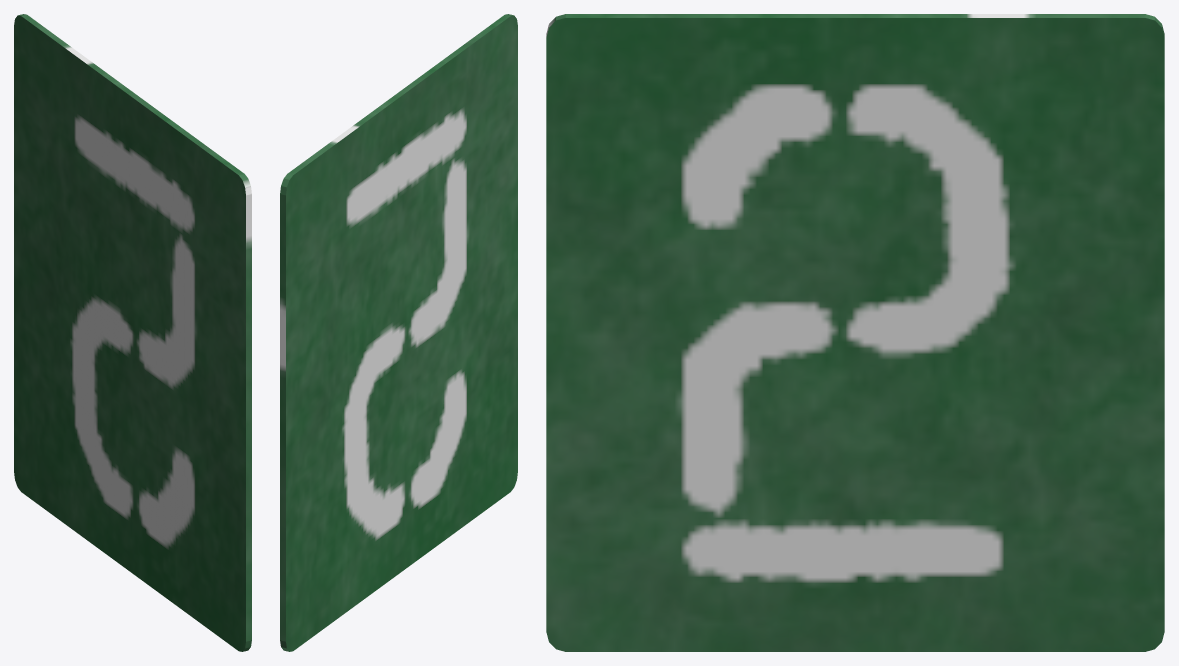
Rendered from DecalNumberTwo.fbx.
3 views of the same model, side by side, from view 1: azimuth 30°, elevation 25°; view 2: azimuth 150°, elevation 25°; view 3: azimuth 270°, elevation 25° (orthographic). The views are drawn at different scales.
Parts seen in each view (by area): view 1: DecalNumberTwo; view 2: DecalNumberTwo; view 3: DecalNumberTwo.
Part boxes in pixels (left/top/right/bottom): DecalNumberTwo: left=14, top=14, right=251, bottom=651; DecalNumberTwo: left=280, top=14, right=517, bottom=651; DecalNumberTwo: left=546, top=14, right=1164, bottom=651.
Bounding box in the file's own units: 5.01e-05 × 0.00385 × 0.0034.
